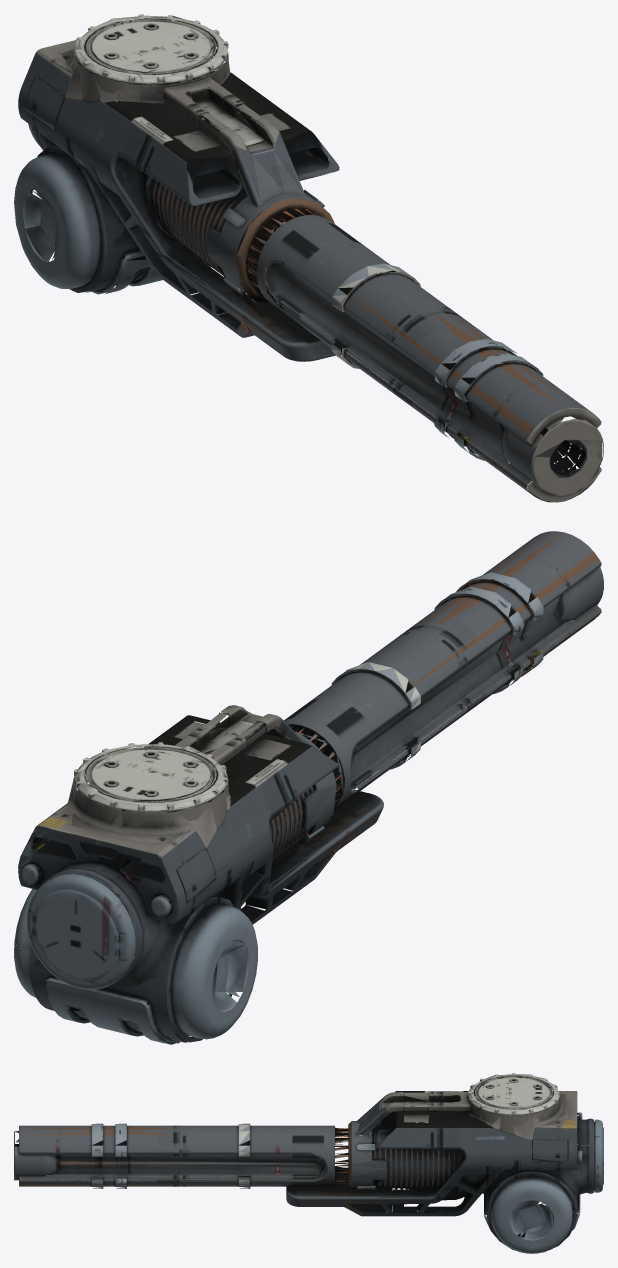
File: cannon.glb
The picture shows the model from 3 angles, top to bottom: view 1: azimuth 30°, elevation 25°; view 2: azimuth 150°, elevation 25°; view 3: azimuth 270°, elevation 25°; orthographic projection. The views are drawn at different scales.
Parts seen in each view (by area): view 1: Extruded.002_M_Gun_0 (×2); view 2: Extruded.002_M_Gun_0 (×2); view 3: Extruded.002_M_Gun_0 (×2).
Boxes of the visible parts, box(x1,y1,x2,y2) form: Extruded.002_M_Gun_0 (×2): box(14, 14, 603, 502); Extruded.002_M_Gun_0 (×2): box(14, 531, 603, 1044); Extruded.002_M_Gun_0 (×2): box(14, 1073, 603, 1253).
Bounding box in the file's own units: 0.2217 × 0.2714 × 1.
1 material, 1 textured.
